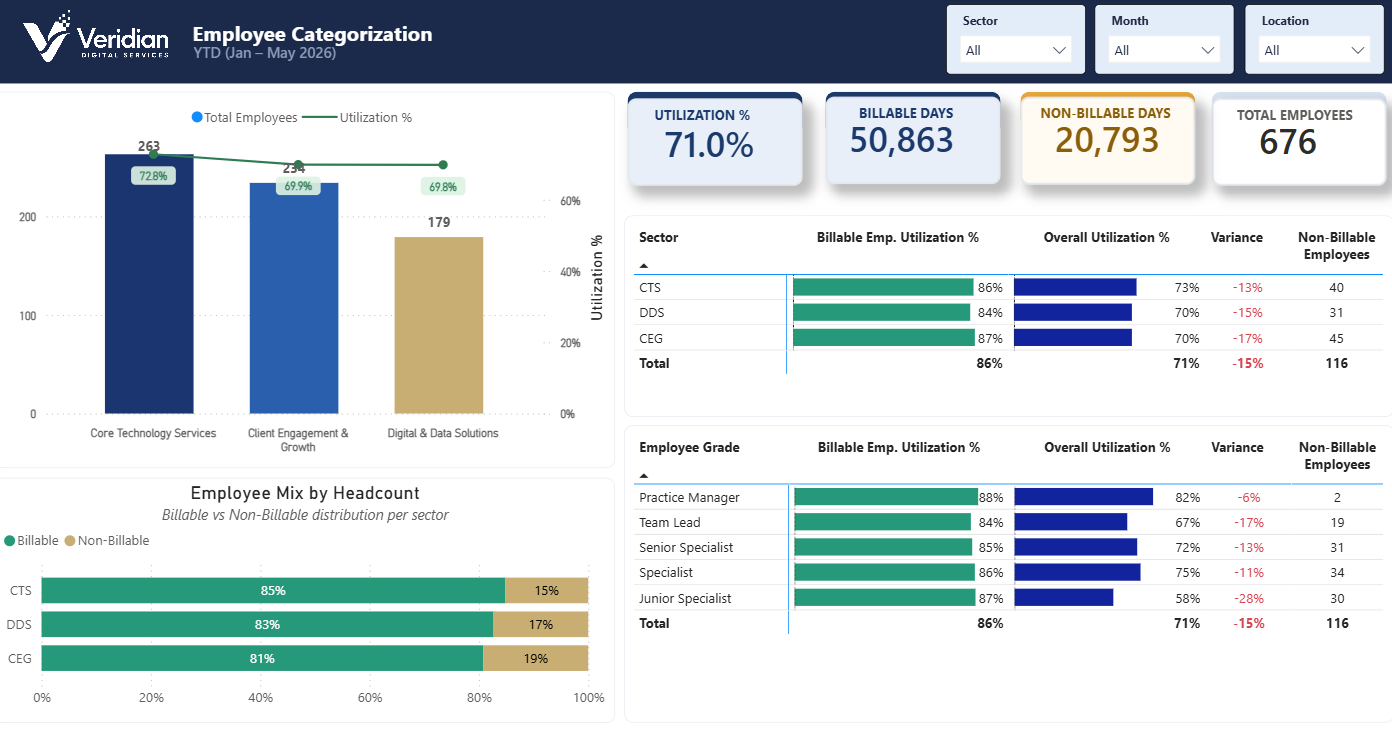

What the dashboard file says about the page in this screenshot:
{"tool":"powerbi","page":{"name":"Employee Categorization","canvas":[1280,690],"ordinal":5},"visuals":[{"type":"group","id":"g1","title":"Group 2","box":[0,0,1280,80],"z":0},{"type":"shape","box":[0,0,1280,80],"z":0,"group":"g1"},{"type":"shape","box":[761,88,160,40],"z":0,"group":"g2"},{"type":"shape","box":[938,88,160,33.5],"z":0,"group":"g3"},{"type":"textbox","box":[176,16,352,48],"z":1000},{"type":"PBI_CV_7B952816_A48F_49B4_9E13_15E3BB2C0337","title":"Utlization","fields":{"Values":["_Measures.Billable Days"]},"box":[761,93,160,80],"z":1000,"group":"g2"},{"type":"PBI_CV_7B952816_A48F_49B4_9E13_15E3BB2C0337","title":"Utlization","fields":{"Values":["_Measures.Non-Billable Days"]},"box":[938,93,160,80.3],"z":1000,"group":"g3"},{"type":"cardVisual","fields":{"Data":["_Measures.YTD Label"]},"box":[170,18,192,64],"z":2000},{"type":"textbox","box":[787,93,112,32],"z":2000,"group":"g2"},{"type":"textbox","box":[952,93,142,31],"z":2000,"group":"g3"},{"type":"slicer","title":"Location","fields":{"Values":["Dim_Date.Month Year"]},"box":[1007.2,7.7,128,64],"z":3000},{"type":"slicer","fields":{"Values":["Dim_Location.Reporting Location Group"]},"box":[1143.2,7.7,128,64],"z":4000},{"type":"slicer","fields":{"Values":["Dim_Employee.Sector"]},"box":[870,8,128,64],"z":7000},{"type":"pivotTable","fields":{"Values":["_Measures.Billable Emp Utilization %","_Measures.Utilization %","_Measures.Utilization Drag Label","_Measures.Non-Billable Employees"],"Rows":["Dim_Employee.Sector Short"]},"box":[576,200,704,184],"z":8000},{"type":"lineStackedColumnComboChart","fields":{"Category":["Dim_Employee.Sector"],"Y":["_Measures.Total Employees"],"Y2":["_Measures.Utilization %"]},"box":[0,88,568,344],"z":9000},{"type":"pivotTable","fields":{"Values":["_Measures.Billable Emp Utilization %","_Measures.Utilization %","_Measures.Utilization Drag Label","_Measures.Non-Billable Employees"],"Rows":["Dim_Employee.Employee Grade"]},"box":[576,392,704,272],"z":10000},{"type":"hundredPercentStackedBarChart","title":"Employee Mix by Headcount","fields":{"Y":["_Measures.Billable Employee % of Sector","_Measures.NB Employee % of Sector"],"Category":["Dim_Employee.Sector Short"]},"box":[0,440,568,224],"z":11000},{"type":"shape","box":[1114,88,160,40],"z":12000},{"type":"PBI_CV_7B952816_A48F_49B4_9E13_15E3BB2C0337","title":"Utlization","fields":{"Values":["_Measures.Total Employees"]},"box":[1114,93,160,80],"z":13000},{"type":"textbox","box":[1131.8,94,133.2,32],"z":14000},{"type":"group","id":"g2","title":"Group 4","box":[761,88,160,85],"z":15000},{"type":"group","id":"g3","title":"Group 4","box":[938,88,160,85.3],"z":16000},{"type":"shape","box":[580,88,160,40],"z":17000},{"type":"cardVisual","title":"Utlization","fields":{"Data":["_Measures.Utilization %"]},"box":[580,93,160,80],"z":18000},{"type":"textbox","box":[599.8,94,109,34],"z":19000},{"type":"image","box":[21,4,144,64],"z":20000}]}

Visuals, with their boxes in screenshot pixels (x1, y1, x2, y2), scaled from the page's 1280x690 canvas onto the 1392x739 screenshot:
"Group 2" group: detection(0, 0, 1391, 86)
shape: detection(0, 0, 1391, 86)
shape: detection(828, 94, 1002, 137)
shape: detection(1020, 94, 1194, 130)
textbox: detection(191, 17, 574, 69)
"Utlization" PBI_CV_7B952816_A48F_49B4_9E13_15E3BB2C0337: detection(828, 100, 1002, 185)
"Utlization" PBI_CV_7B952816_A48F_49B4_9E13_15E3BB2C0337: detection(1020, 100, 1194, 186)
cardVisual - _Measures.YTD Label: detection(185, 19, 394, 88)
textbox: detection(856, 100, 978, 134)
textbox: detection(1035, 100, 1190, 133)
"Location" slicer: detection(1095, 8, 1235, 77)
slicer - Dim_Location.Reporting Location Group: detection(1243, 8, 1382, 77)
slicer - Dim_Employee.Sector: detection(946, 9, 1085, 77)
pivotTable - _Measures.Billable Emp Utilization % x _Measures.Utilization %: detection(626, 214, 1391, 411)
lineStackedColumnComboChart - Dim_Employee.Sector x _Measures.Total Employees: detection(0, 94, 618, 463)
pivotTable - _Measures.Billable Emp Utilization % x _Measures.Utilization %: detection(626, 420, 1391, 711)
"Employee Mix by Headcount" hundredPercentStackedBarChart: detection(0, 471, 618, 711)
shape: detection(1211, 94, 1385, 137)
"Utlization" PBI_CV_7B952816_A48F_49B4_9E13_15E3BB2C0337: detection(1211, 100, 1385, 185)
textbox: detection(1231, 101, 1376, 135)
"Group 4" group: detection(828, 94, 1002, 185)
"Group 4" group: detection(1020, 94, 1194, 186)
shape: detection(631, 94, 805, 137)
"Utlization" cardVisual: detection(631, 100, 805, 185)
textbox: detection(652, 101, 771, 137)
image: detection(23, 4, 179, 73)
